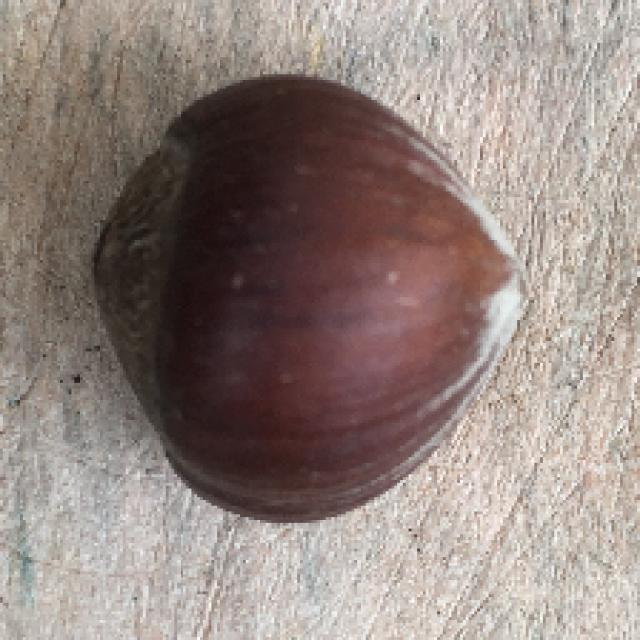qualityHazelnut: (85, 76, 538, 520)
